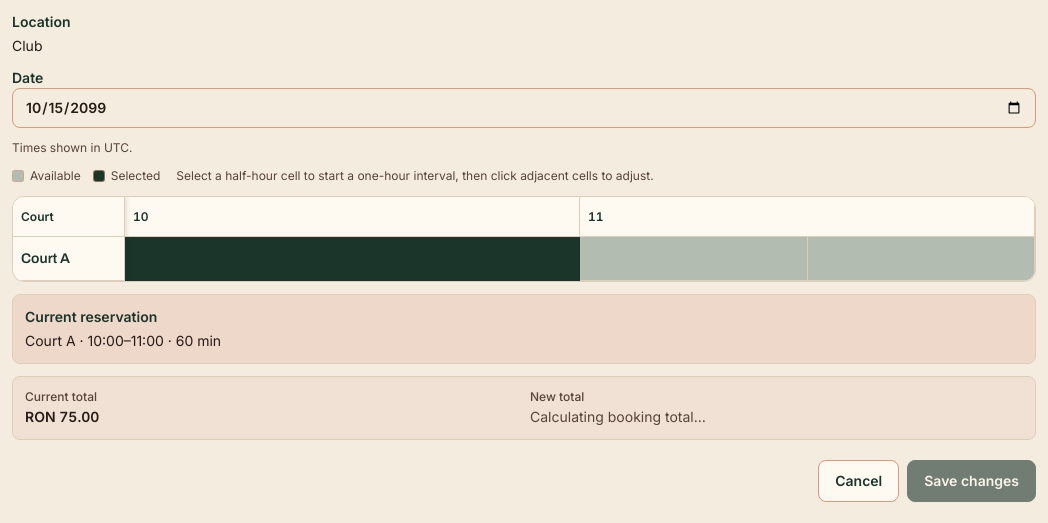
Test: refreshes the preloaded date after a court conflict
Expected: the text "Current reservation" is shown, [25,308,157,325]
Click the button named "Court A 2099-10-15 11:00–11:30" at point(694, 258), box [580,237,808,280]
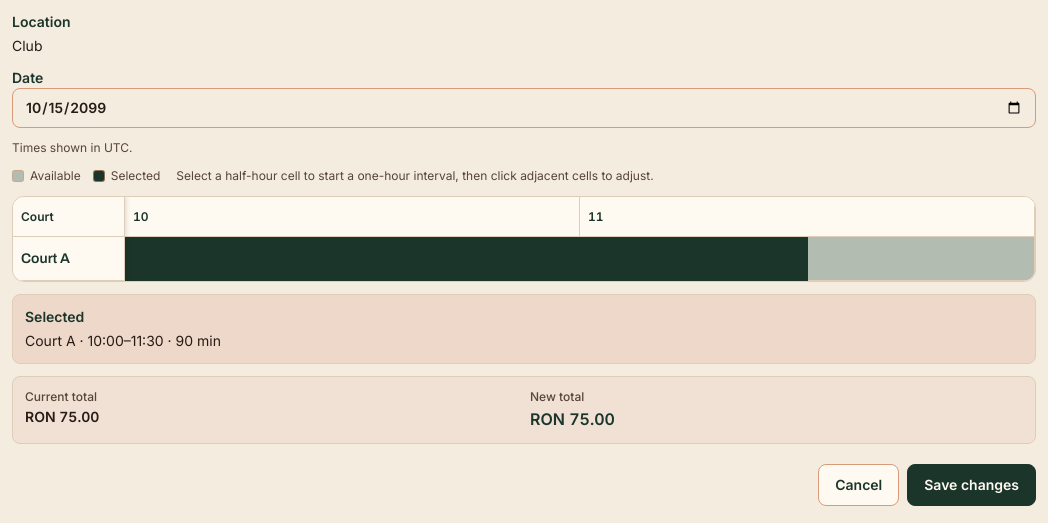
Expected: the button "Save changes" is enabled
Click the button "Save changes" at point(972, 485), box [907,464,1036,506]
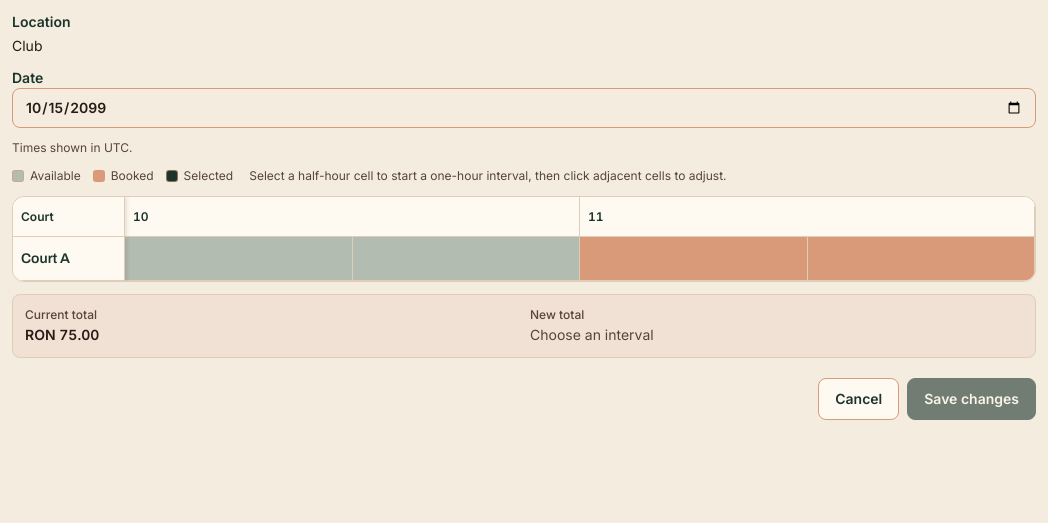
Expected: the button "Save changes" is disabled, [907,378,1036,420]
